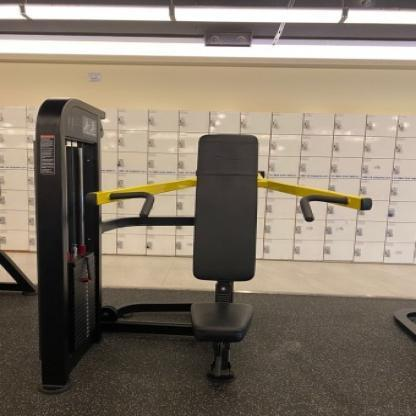shoulder press machine: (0, 98, 385, 398)
